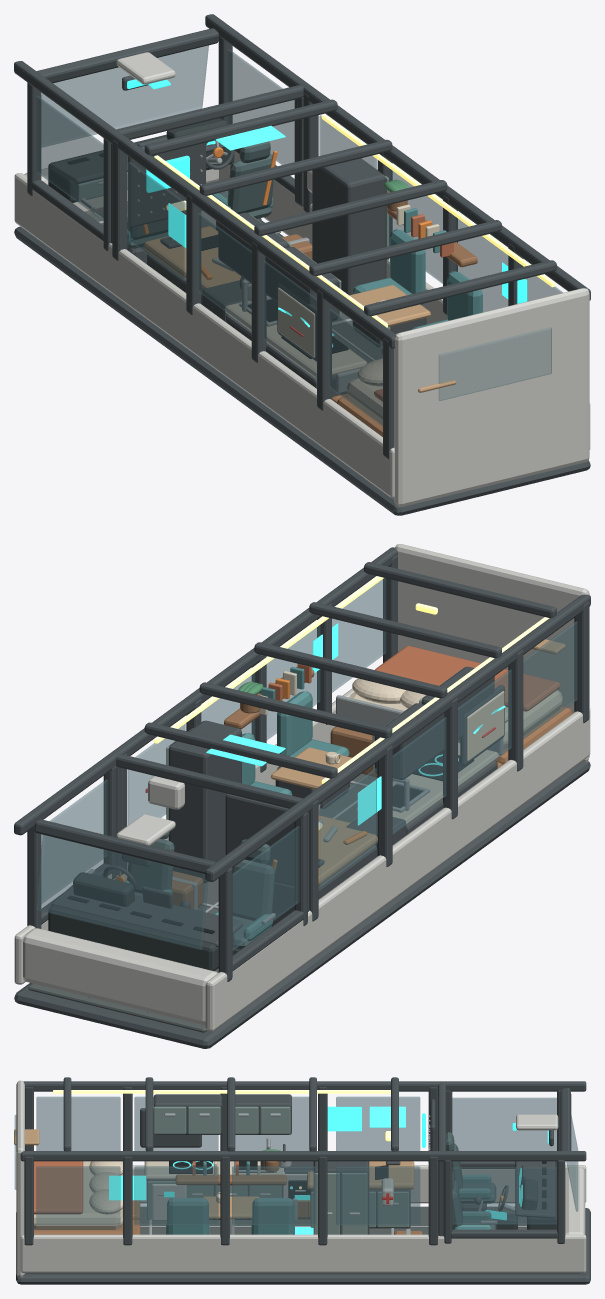
The model's file is rv_interior_initial.glb.
3 renders of one model, top to bottom at view 1: azimuth 30°, elevation 25°; view 2: azimuth 150°, elevation 25°; view 3: azimuth 270°, elevation 25°, orthographic. The views are drawn at different scales.
Visible parts, largest first — view 1: FrontBulkhead, LowerWall_L, CockpitWindshield, FloorBase, Wardrobe_Body, UpperRail_L, UpperRail_R, CockpitSideWindow_L, FrontWindow, WindowGlass_L_+2.44, WindowGlass_L_+0.71, WindowGlass_L_-2.54 (+45 smaller); view 2: LowerWall_L, FrontBulkhead, CockpitWindshield, CockpitNoseLower, FloorBase, UpperRail_L, Wardrobe_Body, UpperRail_R, CockpitSideWindow_L, CockpitDashboardBody, WindowGlass_L_+2.44, WindowGlass_L_-2.54 (+57 smaller); view 3: LowerWall_R, FloorBase, CockpitSideWindow_R, UpperRail_R, WindowGlass_R_-0.91, WindowGlass_R_-2.54, WindowGlass_R_+0.71, WindowGlass_R_+2.44, UpperRail_L, CockpitSideWindow_L, WindowGlass_L_-2.54, WindowGlass_L_+2.44 (+76 smaller).
Boxes of the visible parts, x1=… form: FrontBulkhead: x1=394, y1=288, x2=589, y2=506; LowerWall_L: x1=14, y1=173, x2=394, y2=498; CockpitWindshield: x1=41, y1=45, x2=208, y2=147; FloorBase: x1=14, y1=221, x2=590, y2=515; Wardrobe_Body: x1=312, y1=158, x2=385, y2=295; UpperRail_L: x1=14, y1=61, x2=395, y2=348; UpperRail_R: x1=205, y1=14, x2=590, y2=300; CockpitSideWindow_L: x1=36, y1=96, x2=103, y2=220; FrontWindow: x1=439, y1=327, x2=551, y2=400; WindowGlass_L_+2.44: x1=128, y1=162, x2=185, y2=280; WindowGlass_L_+0.71: x1=197, y1=213, x2=251, y2=330; WindowGlass_L_-2.54: x1=328, y1=309, x2=382, y2=426; LowerWall_L: x1=205, y1=707, x2=590, y2=1031; FrontBulkhead: x1=395, y1=544, x2=589, y2=762; CockpitWindshield: x1=36, y1=835, x2=208, y2=949; CockpitNoseLower: x1=23, y1=928, x2=217, y2=1024; FloorBase: x1=14, y1=761, x2=590, y2=1048; UpperRail_L: x1=205, y1=594, x2=590, y2=881; Wardrobe_Body: x1=168, y1=720, x2=241, y2=883; UpperRail_R: x1=14, y1=547, x2=397, y2=835; CockpitSideWindow_L: x1=232, y1=826, x2=299, y2=950; CockpitDashboardBody: x1=48, y1=905, x2=234, y2=970; WindowGlass_L_+2.44: x1=319, y1=768, x2=376, y2=887; WindowGlass_L_-2.54: x1=523, y1=621, x2=577, y2=738; LowerWall_R: x1=20, y1=1234, x2=586, y2=1272; FloorBase: x1=16, y1=1208, x2=590, y2=1284; CockpitSideWindow_R: x1=452, y1=1167, x2=556, y2=1224; UpperRail_R: x1=20, y1=1151, x2=586, y2=1161; WindowGlass_R_-0.91: x1=134, y1=1166, x2=218, y2=1225; WindowGlass_R_-2.54: x1=36, y1=1166, x2=120, y2=1225; WindowGlass_R_+0.71: x1=232, y1=1166, x2=316, y2=1225; WindowGlass_R_+2.44: x1=336, y1=1166, x2=420, y2=1225; UpperRail_L: x1=23, y1=1081, x2=586, y2=1091; CockpitSideWindow_L: x1=452, y1=1097, x2=556, y2=1150; WindowGlass_L_-2.54: x1=36, y1=1096, x2=120, y2=1150; WindowGlass_L_+2.44: x1=336, y1=1096, x2=420, y2=1150.
Size of the model in its own units: 2.89 by 2.56 by 9.59.
